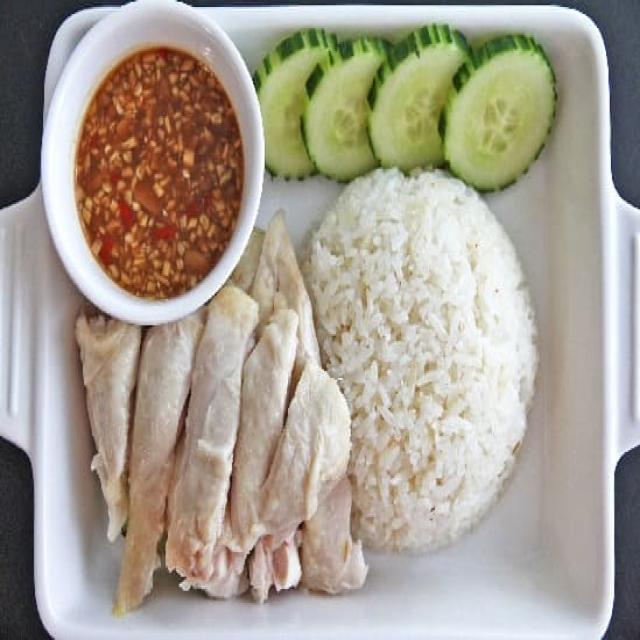Carbohydrate: (297, 169, 539, 556)
Kaow-Mankai: (26, 0, 616, 640)
Protein: (76, 206, 368, 614)
Vegetable: (249, 24, 558, 188)
